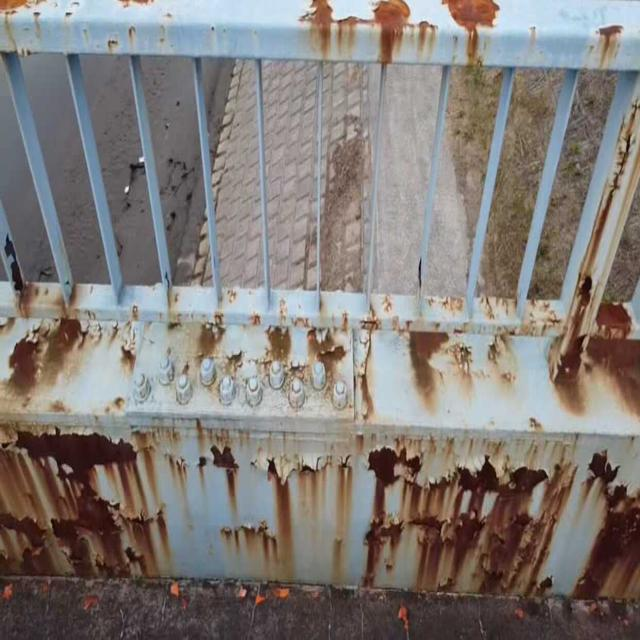corrosion: (19, 282, 637, 617), (280, 0, 520, 91)
